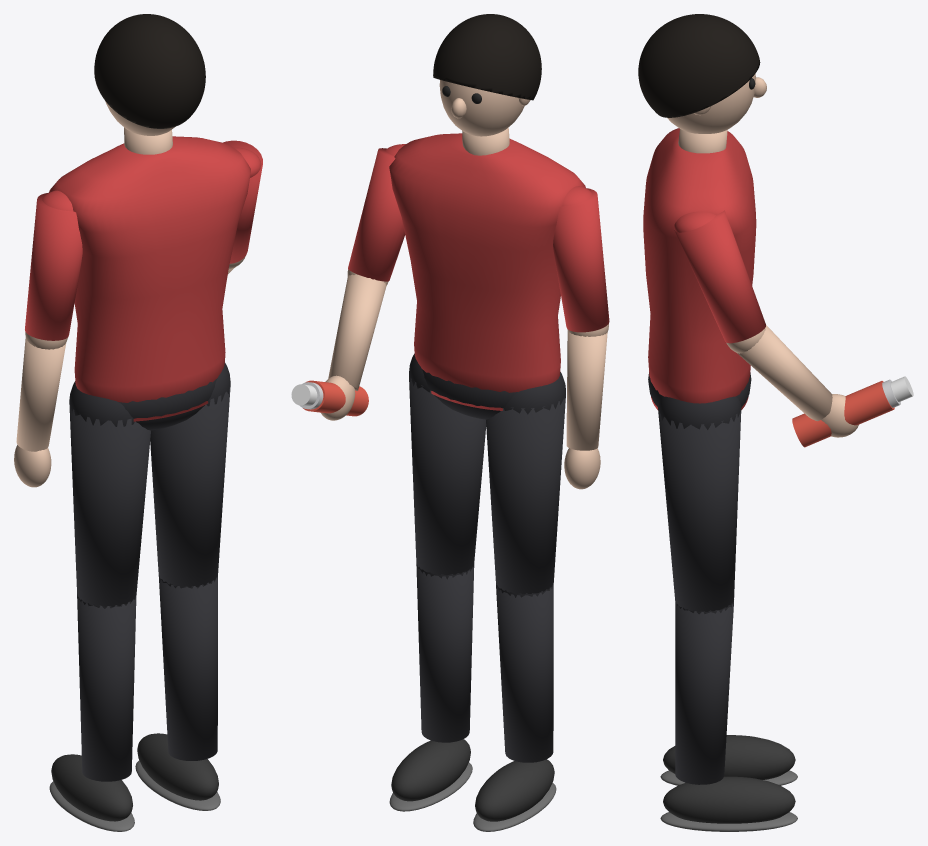
The model's file is human_2.glb.
3 views of the same model, side by side, from view 1: azimuth 30°, elevation 25°; view 2: azimuth 150°, elevation 25°; view 3: azimuth 270°, elevation 25° (orthographic). The views are drawn at different scales.
Visible parts, largest first — view 1: Body, Leg_L, Leg_R, Arm_L, Arm_R; view 2: Body, Leg_L, Leg_R, Arm_L, Arm_R, Spray_Can; view 3: Body, Leg_R, Arm_R, Leg_L, Spray_Can.
Boxes of the visible parts, x1,y1,x2,y2 form: Body: [49, 14, 250, 430]; Leg_L: [49, 381, 150, 831]; Leg_R: [135, 363, 230, 810]; Arm_L: [14, 190, 82, 487]; Arm_R: [223, 140, 262, 273]; Body: [389, 14, 585, 419]; Leg_L: [473, 372, 565, 831]; Leg_R: [389, 353, 486, 811]; Arm_L: [553, 186, 609, 489]; Arm_R: [321, 144, 405, 420]; Spray_Can: [291, 380, 368, 416]; Body: [638, 14, 766, 409]; Leg_R: [658, 396, 797, 831]; Arm_R: [674, 210, 858, 437]; Leg_L: [660, 735, 797, 785]; Spray_Can: [792, 376, 913, 447].
Size of the model in its own units: 0.5595 by 1.76 by 0.56.
